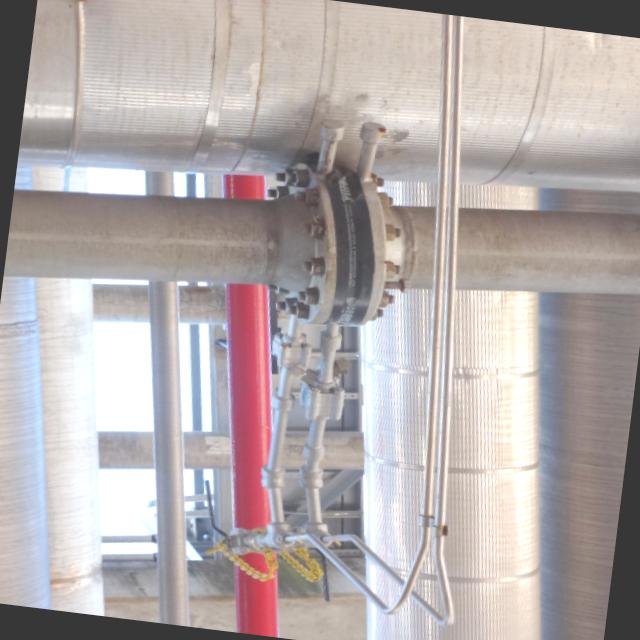gas: (3, 191, 640, 294), (229, 286, 280, 637), (150, 286, 191, 627)
